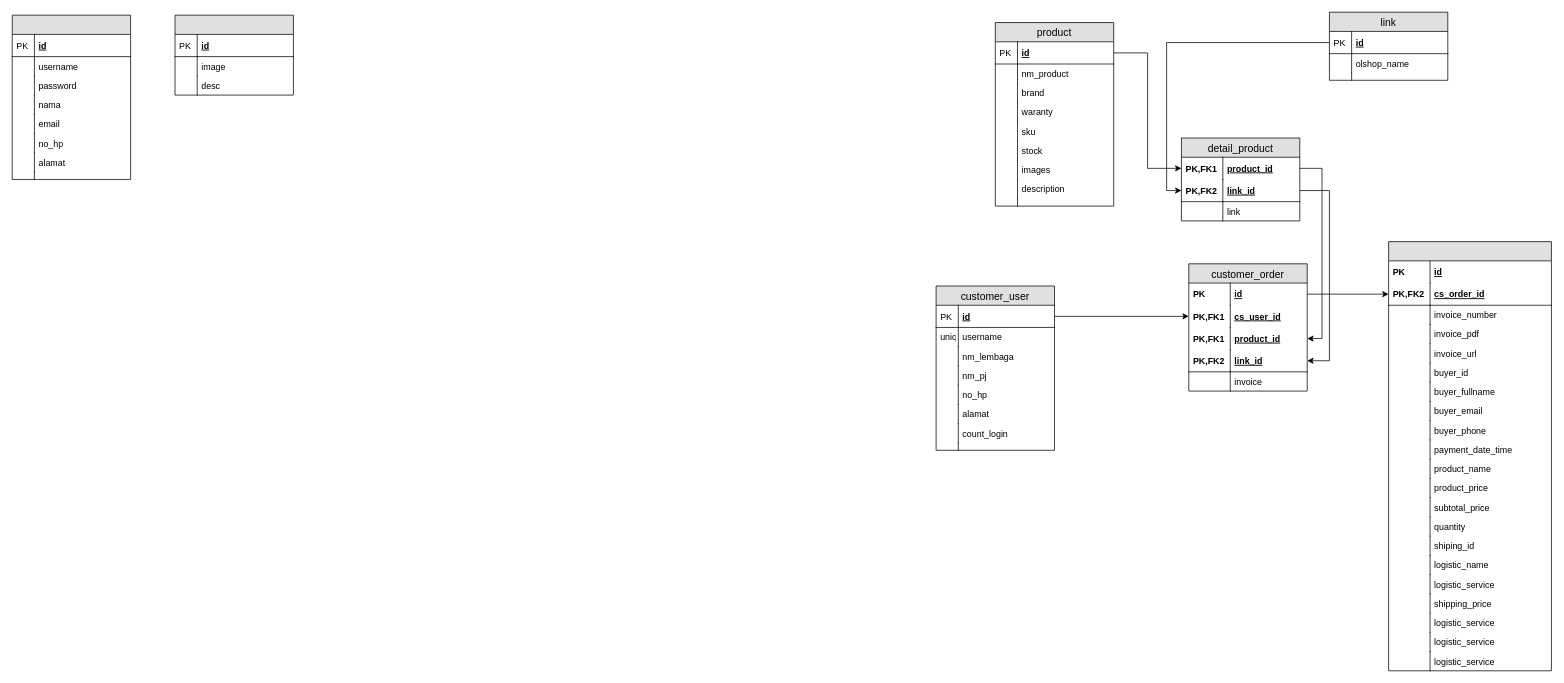
Image size: 1564x683. Some labels were removed from this diagram. Here are the shapes that lost their labels. From the top down, the box of each, then its label:
(174, 14, 293, 95): web_banner
(11, 14, 131, 179): admin_user
(1388, 241, 1551, 671): detail_cs_order
